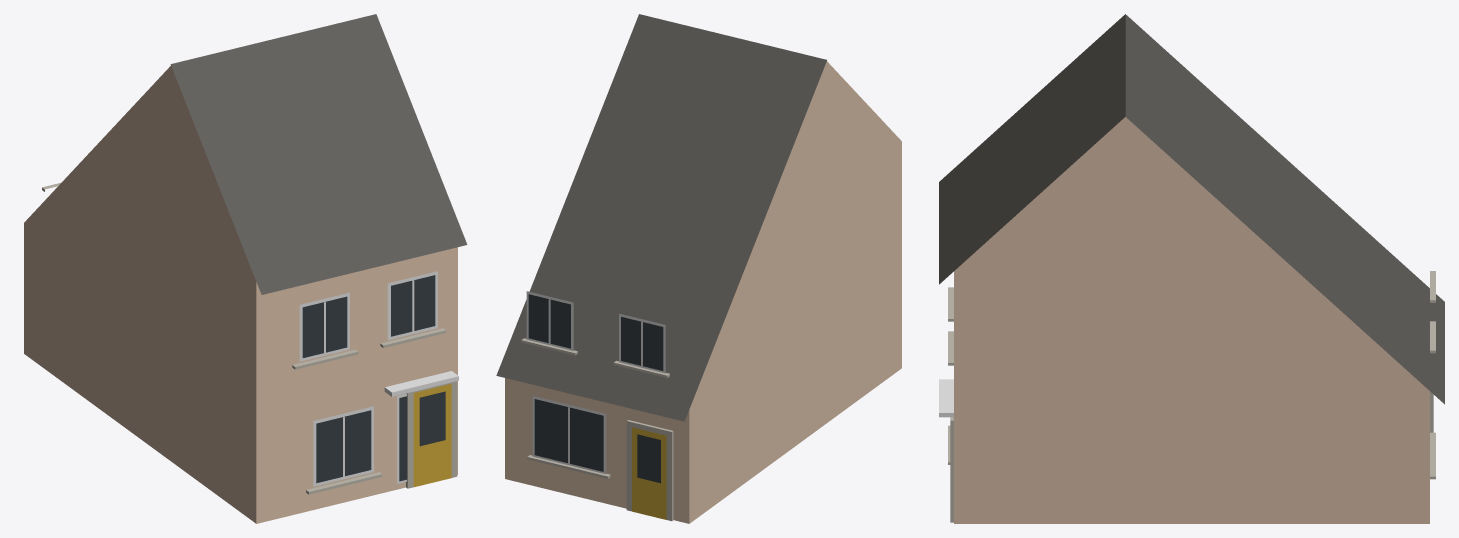
The model's file is nw-ma-yellow-door__beige__2__gable__long__solid__mirror.glb.
3 views of the same model, side by side, from view 1: azimuth 30°, elevation 25°; view 2: azimuth 150°, elevation 25°; view 3: azimuth 270°, elevation 25° (orthographic). The views are drawn at different scales.
Visible parts, largest first — view 1: nw-ma-yellow-door__beige__2__gable__long__solid__mirror; view 2: nw-ma-yellow-door__beige__2__gable__long__solid__mirror; view 3: nw-ma-yellow-door__beige__2__gable__long__solid__mirror.
Part boxes in pixels (x1=…): nw-ma-yellow-door__beige__2__gable__long__solid__mirror: x1=24, y1=14, x2=467, y2=523; nw-ma-yellow-door__beige__2__gable__long__solid__mirror: x1=496, y1=14, x2=901, y2=523; nw-ma-yellow-door__beige__2__gable__long__solid__mirror: x1=939, y1=14, x2=1444, y2=523.
Size of the model in its own units: 4.9 by 9.08 by 10.2.
